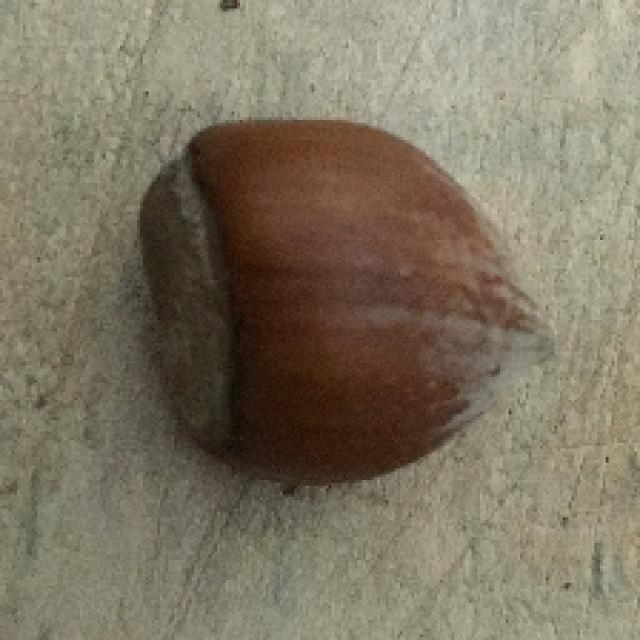damagedHazelnut: (125, 114, 553, 504)
